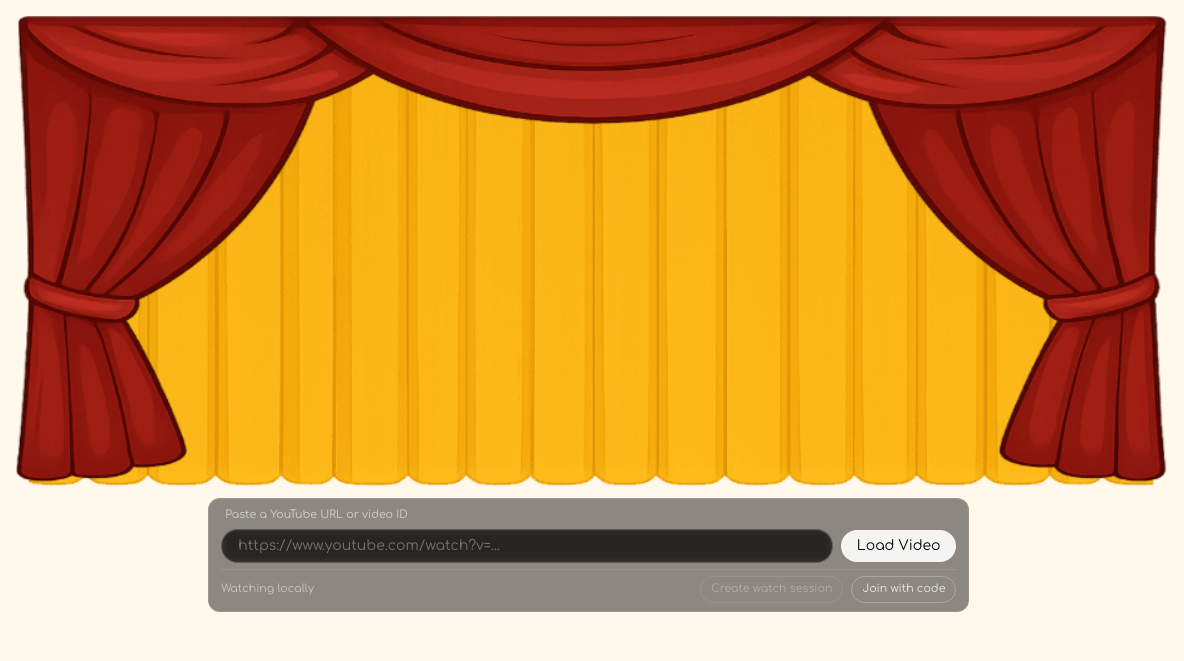
Test: joining › says so honestly when no session answers to a well-formed code
This screenshot has width=1184, height=661.
Click the button "Join with code" at (904, 589), box [851,576,956,602]
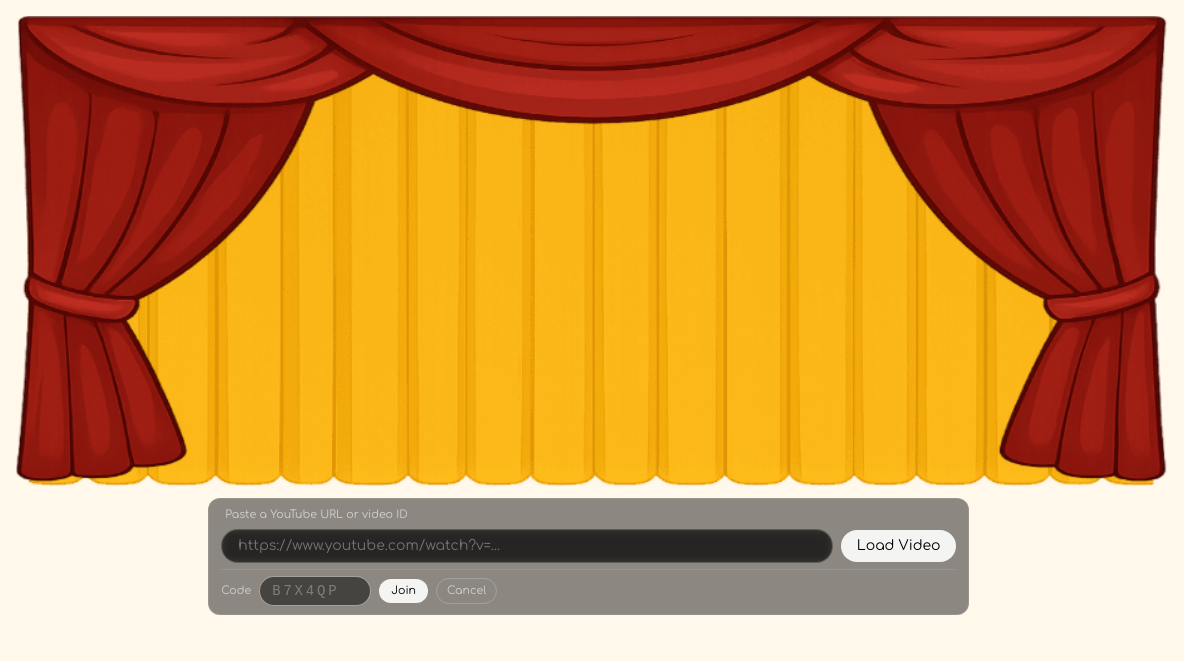
Type "QQQQQQ" into the field named "watch session code" at (315, 591), box [259,576,371,606]
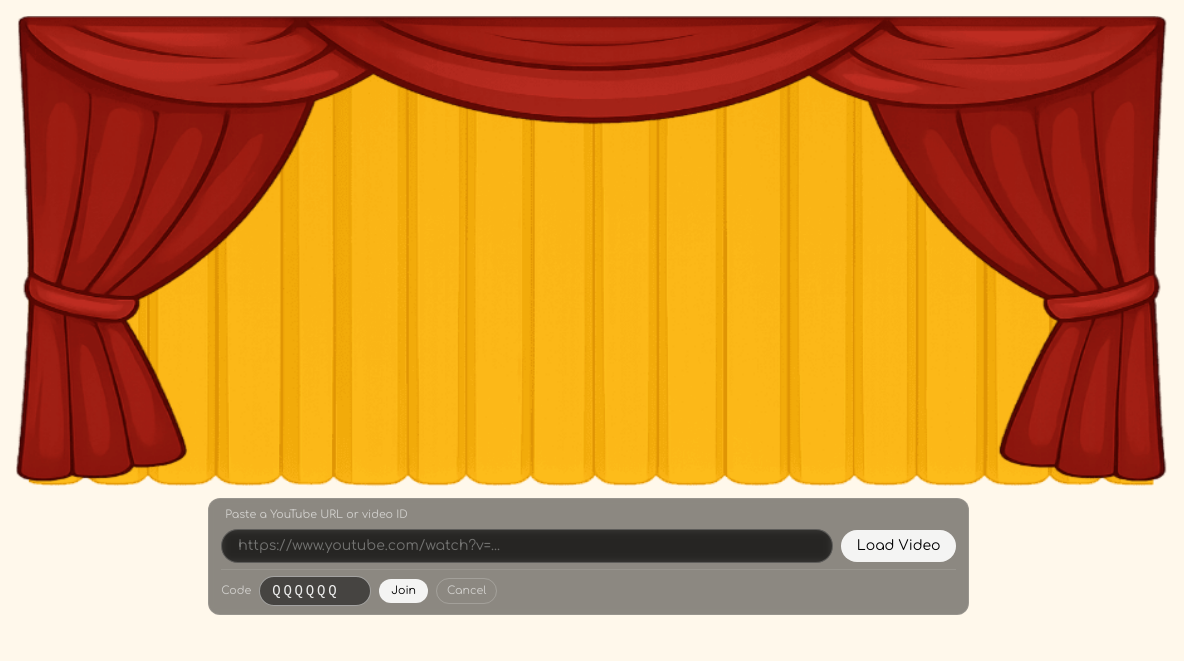
Click the button "Join" at (404, 591), box [379,579,428,603]
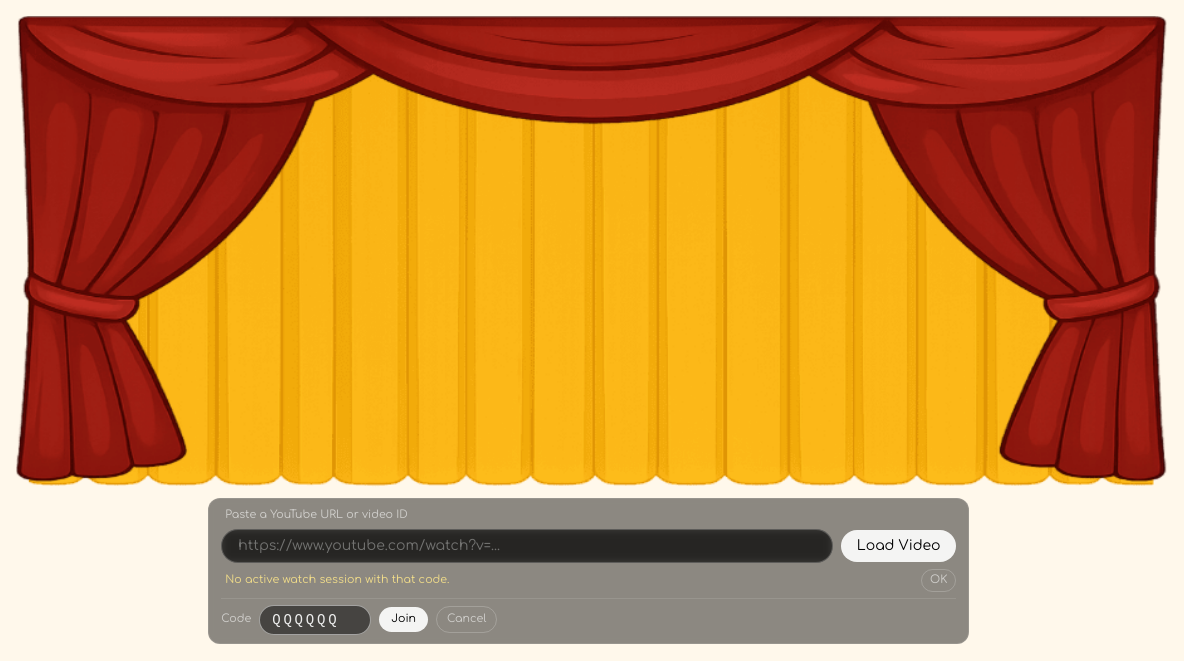
Expected: the message shows "No active watch session", [225,573,450,586]
